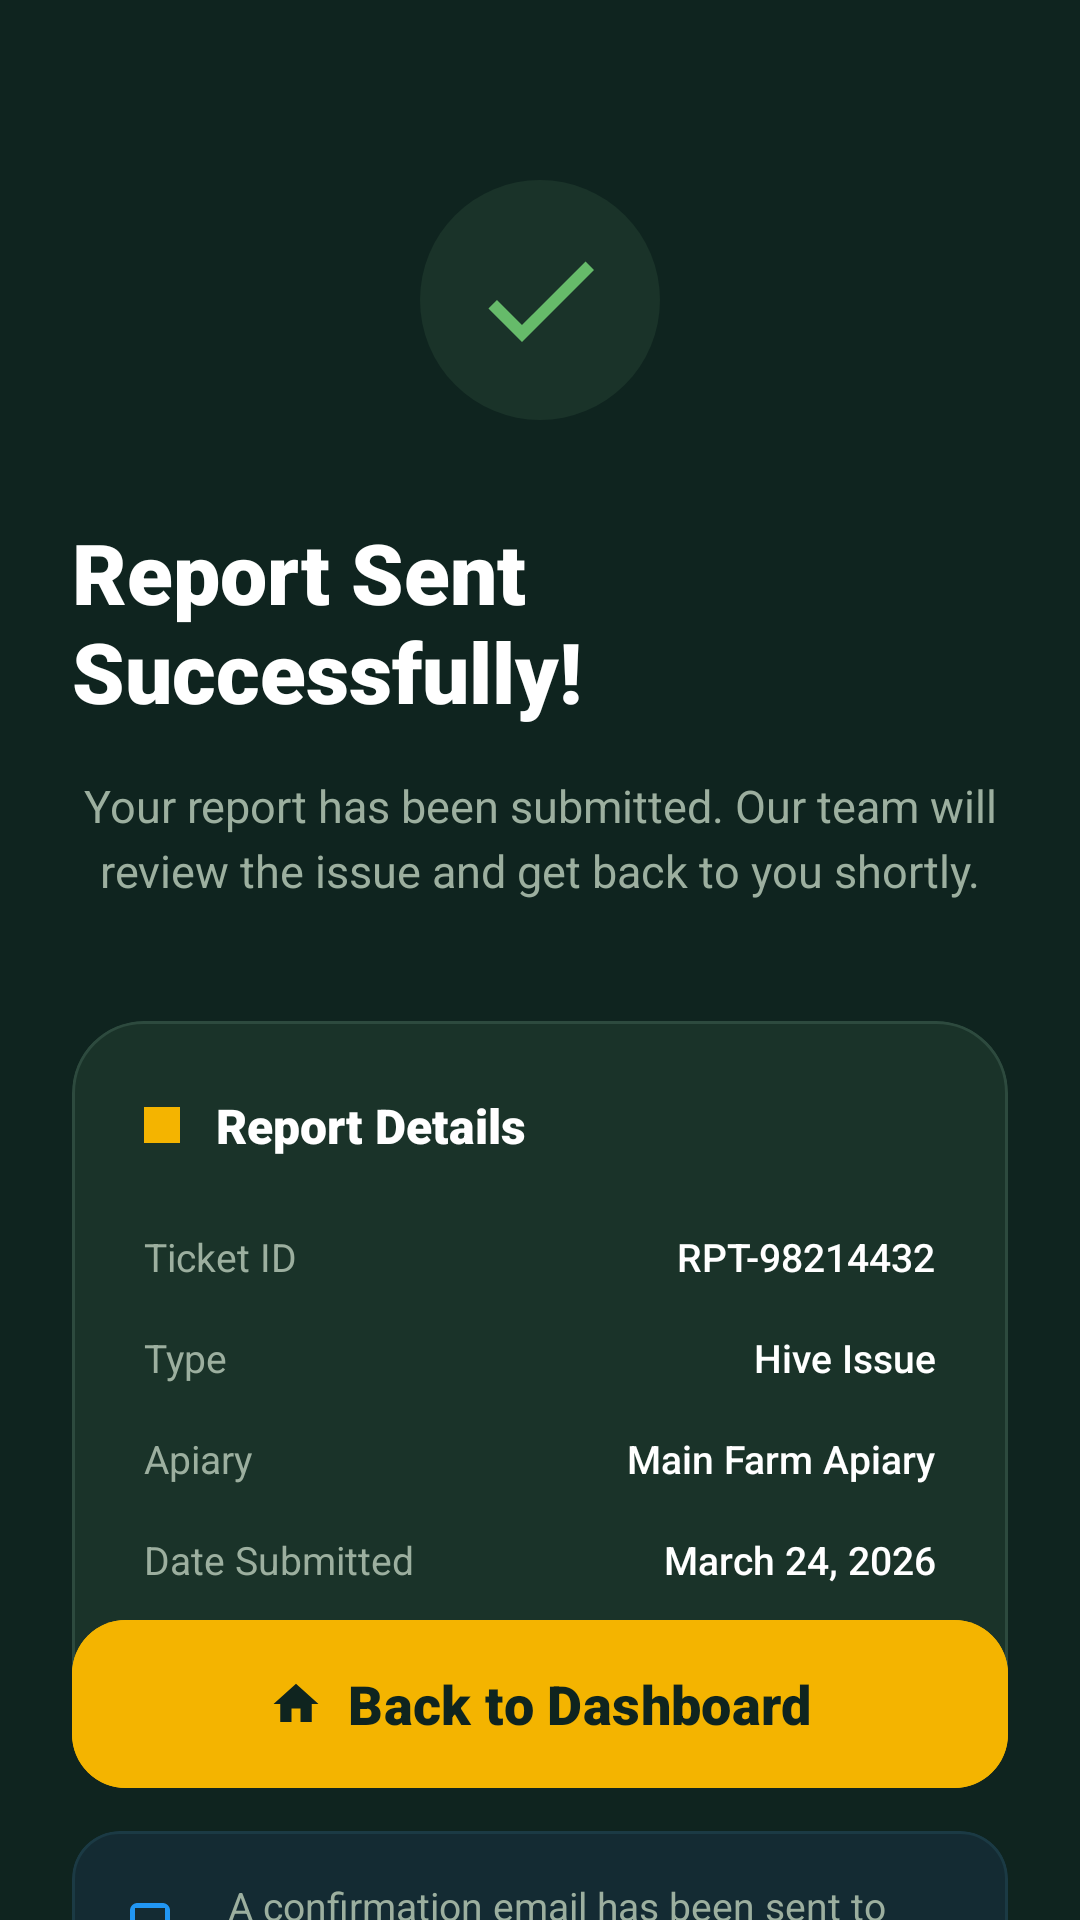

Screen size 1080x1920. Icon name, then its box in pixels as region(x1, y1, x2, y2):
check: region(488, 261, 594, 342)
